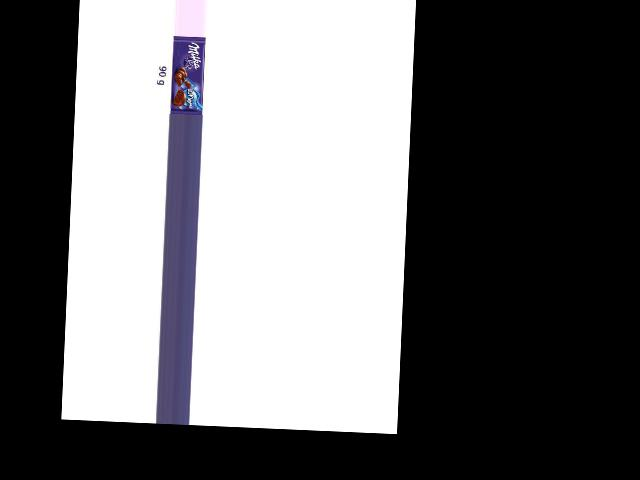chocolate: (170, 37, 205, 115)
